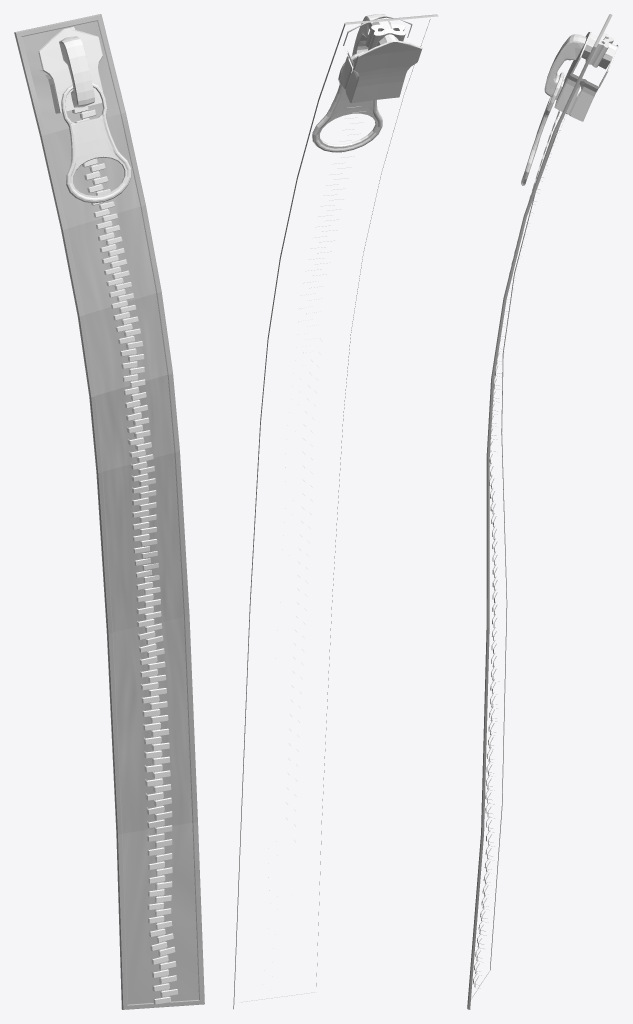
File: Pocket_Right_V2.glb
3 renders of one model, left to right at view 1: azimuth 30°, elevation 25°; view 2: azimuth 210°, elevation 25°; view 3: azimuth 270°, elevation 25°, orthographic. The views are drawn at different scales.
Visible parts, largest first — view 1: Pocket_Right_V21, Ziplock_Right1, Rope1; view 2: Ziplock_Right1, Rope1; view 3: Ziplock_Right1, Rope1.
Boxes of the visible parts, x1,y1,x2,y2 form: Pocket_Right_V21: [22, 21, 198, 1004]; Ziplock_Right1: [38, 27, 178, 1004]; Rope1: [14, 14, 204, 1009]; Ziplock_Right1: [268, 14, 422, 890]; Rope1: [233, 14, 438, 1009]; Ziplock_Right1: [473, 32, 618, 988]; Rope1: [467, 14, 612, 1009].
Size of the model in its own units: 0.0335 by 0.257 by 0.0374.
Materials: 3 (3 with a texture image).
